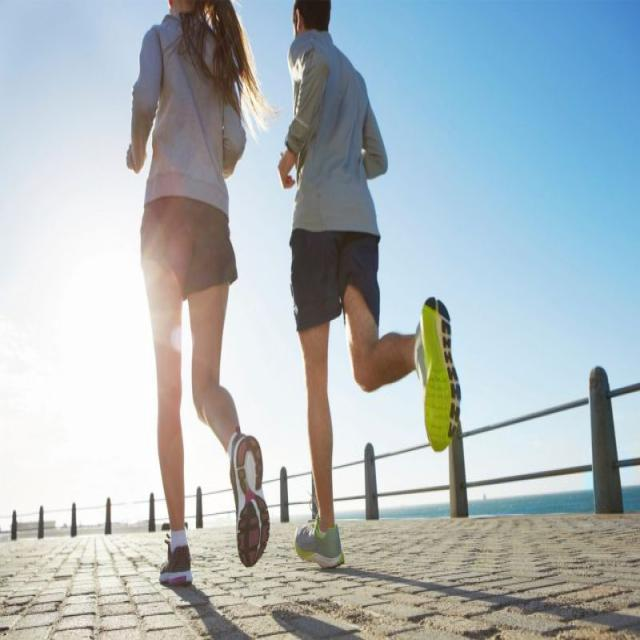running: (278, 0, 464, 574), (124, 0, 270, 587)
